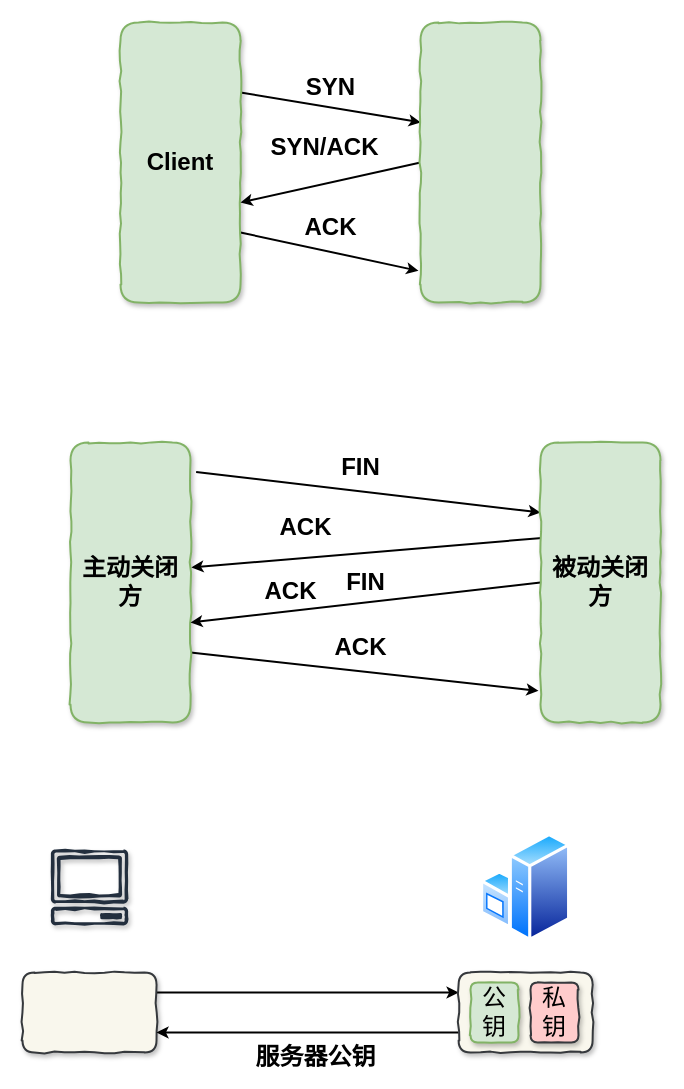
Some shapes in this 684 by 1089 pixel diagram are drawn without their labels. Each missing label, with the centre of its shape:
Server: [481,163]
访问网页: [90,1013]
